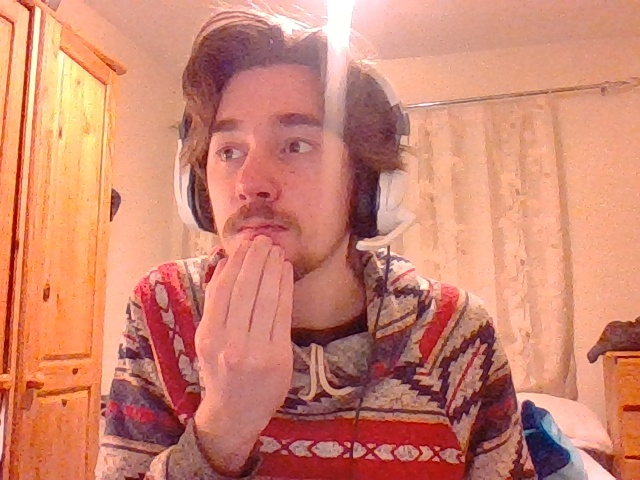thanks: (194, 232, 293, 431)
